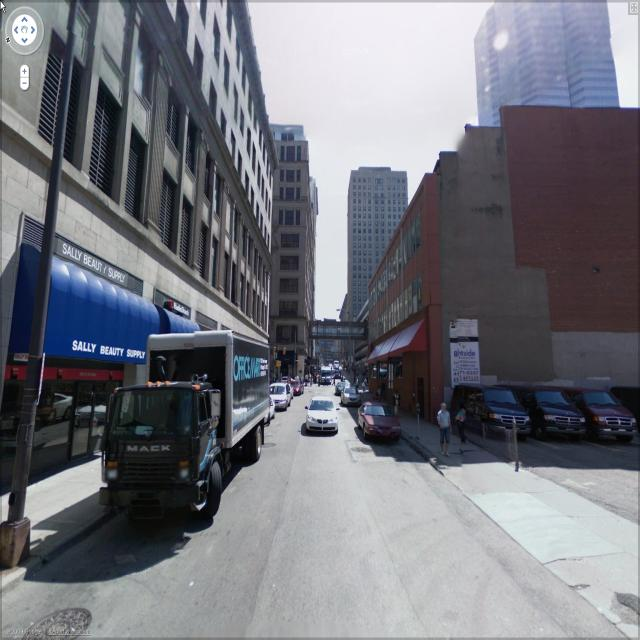b_1: (5, 1, 275, 384), (369, 112, 640, 421), (470, 5, 626, 120), (271, 129, 319, 363), (342, 153, 406, 303)
